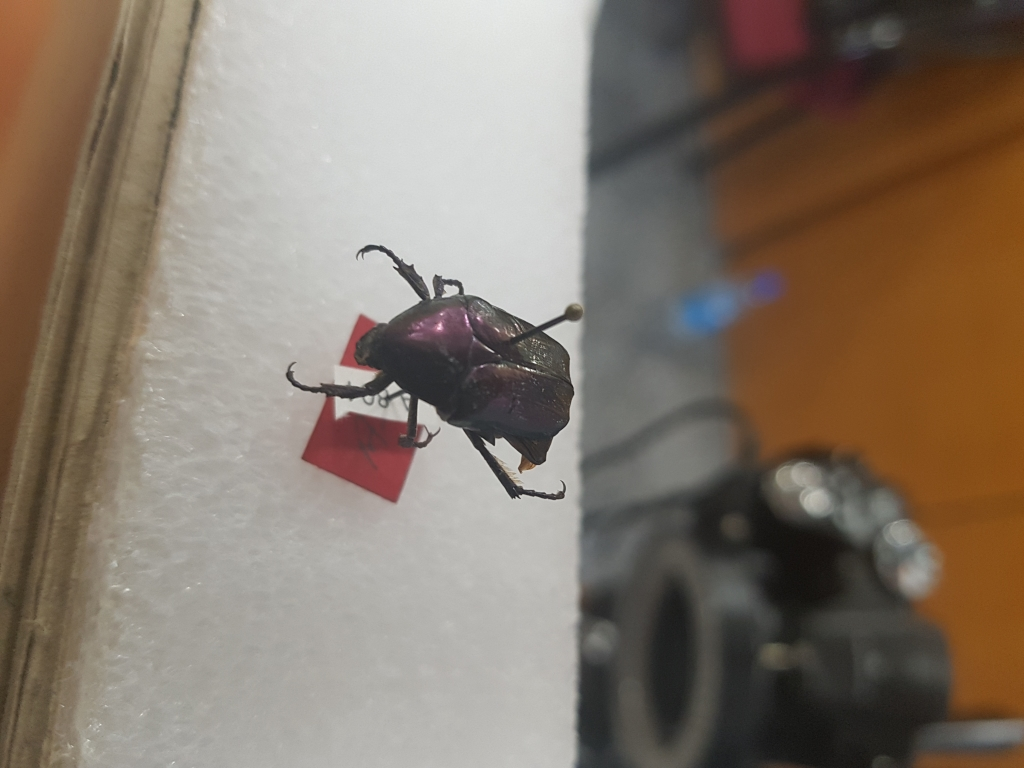Protaetia_besucheti: (279, 228, 579, 514)
